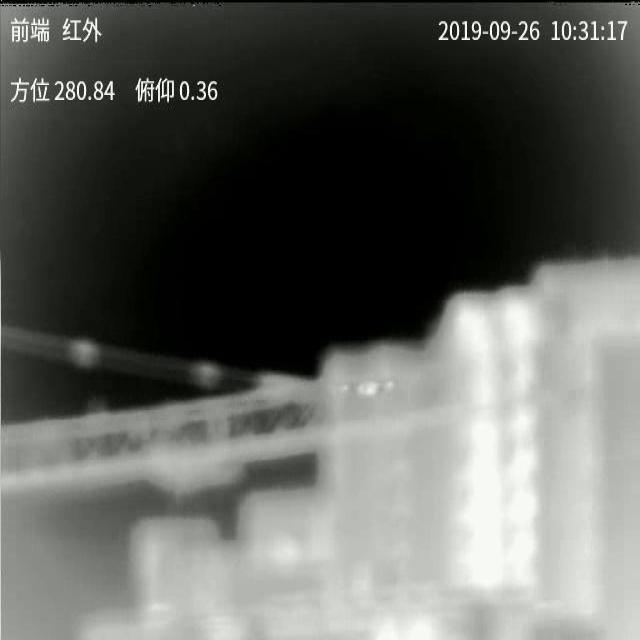drone: (342, 380, 394, 398)
